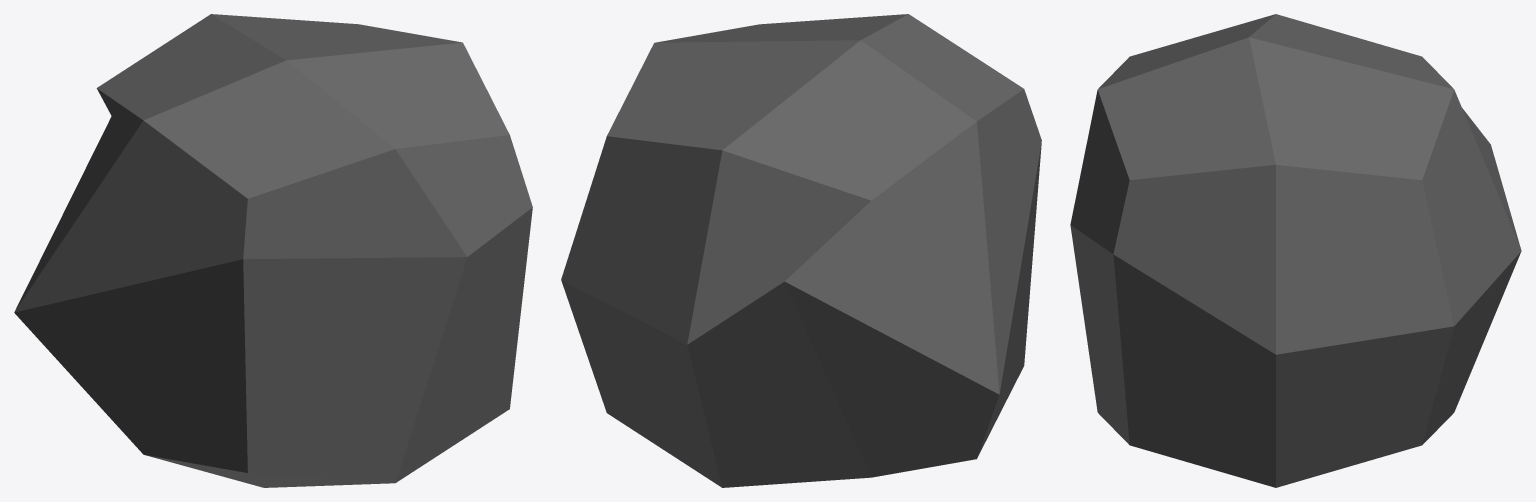
File: Stone.fbx
The picture shows the model from 3 angles, left to right: view 1: azimuth 30°, elevation 25°; view 2: azimuth 150°, elevation 25°; view 3: azimuth 270°, elevation 25°; orthographic projection. The views are drawn at different scales.
Parts seen in each view (by area): view 1: Cube; view 2: Cube; view 3: Cube.
Part boxes in pixels (left/top/right/bottom): Cube: left=14, top=14, right=532, bottom=487; Cube: left=561, top=14, right=1041, bottom=487; Cube: left=1070, top=14, right=1521, bottom=487.
Size of the model in its own units: 0.3838 by 0.3404 by 0.3165.
Materials: 1 (1 with a texture image).
